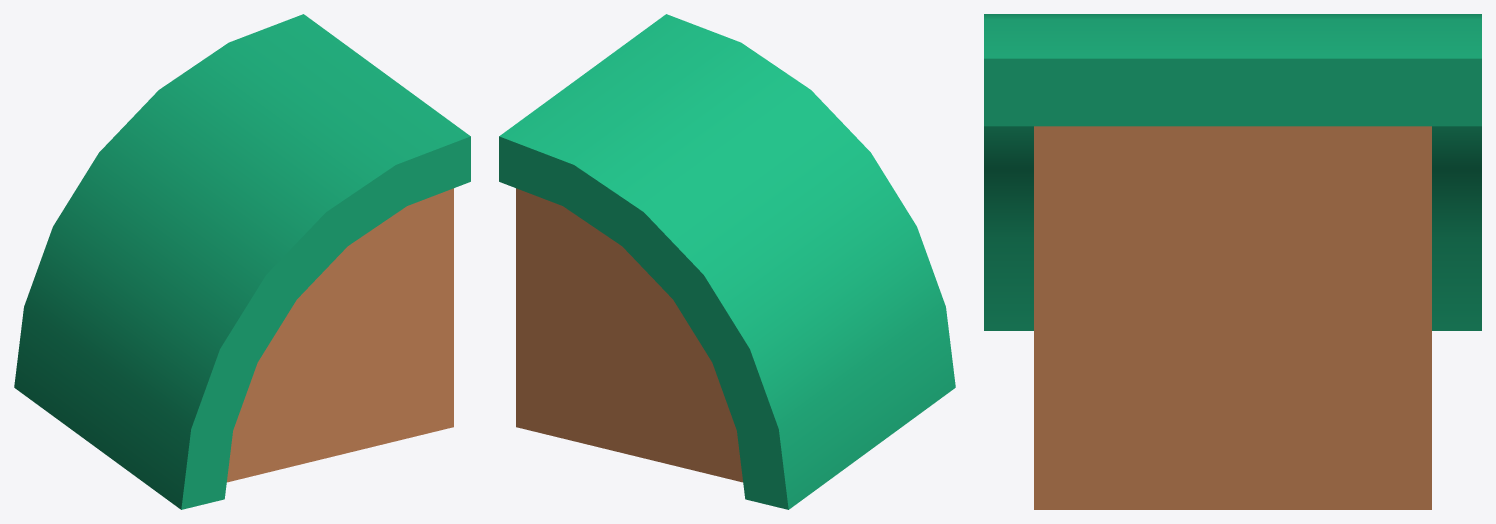
File: blockCurveHalf.fbx
The picture shows the model from 3 angles, left to right: view 1: azimuth 30°, elevation 25°; view 2: azimuth 150°, elevation 25°; view 3: azimuth 270°, elevation 25°; orthographic projection. The views are drawn at different scales.
Parts seen in each view (by area): view 1: blockCurveHalf; view 2: blockCurveHalf; view 3: blockCurveHalf.
Boxes of the visible parts, x1,y1,x2,y2 form: blockCurveHalf: (14,14,470,509); blockCurveHalf: (499,14,955,509); blockCurveHalf: (984,14,1481,509).
Size of the model in its own units: 10 by 10 by 10.
